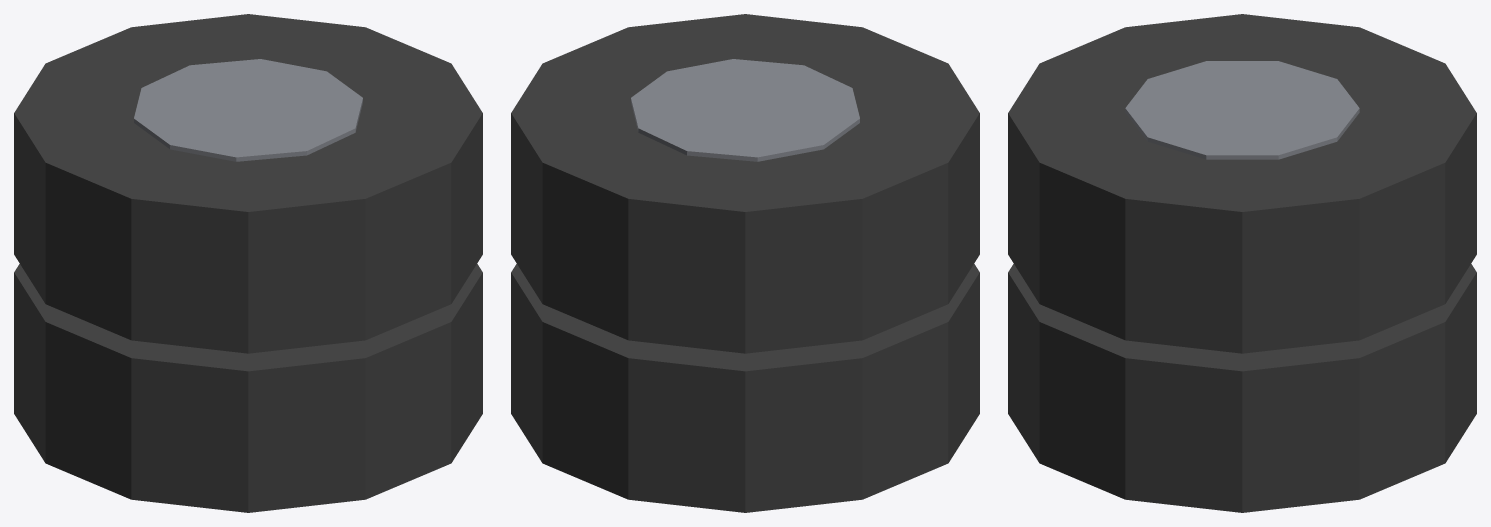
3 renders of one model, left to right at view 1: azimuth 30°, elevation 25°; view 2: azimuth 150°, elevation 25°; view 3: azimuth 270°, elevation 25°, orthographic.
Parts seen in each view (by area): view 1: Tire.001, Tire, Wheel inset.001; view 2: Tire.001, Tire, Wheel inset.001; view 3: Tire.001, Tire, Wheel inset.001.
Part boxes in pixels (<box>): Tire.001: <box>14,14,482,353</box>; Tire: <box>14,264,482,512</box>; Wheel inset.001: <box>134,59,362,161</box>; Tire.001: <box>511,14,979,353</box>; Tire: <box>511,264,979,512</box>; Wheel inset.001: <box>631,59,859,161</box>; Tire.001: <box>1008,14,1476,353</box>; Tire: <box>1008,264,1476,512</box>; Wheel inset.001: <box>1125,61,1359,159</box>.
Bounding box in the file's own units: 0.48 × 0.3455 × 0.48.
1 material, 1 textured.
